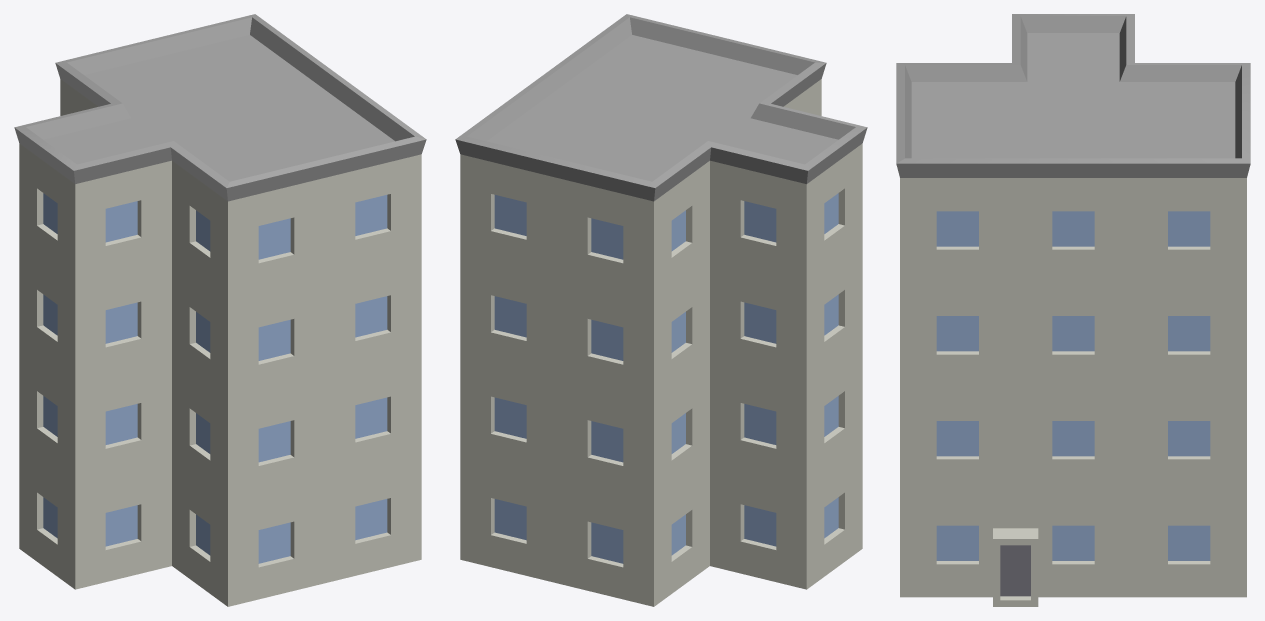
The model's file is Building5.fbx.
3 views of the same model, side by side, from view 1: azimuth 30°, elevation 25°; view 2: azimuth 150°, elevation 25°; view 3: azimuth 270°, elevation 25° (orthographic). The views are drawn at different scales.
Parts seen in each view (by area): view 1: building5:extrudeBackextrudeFront1; view 2: building5:extrudeBackextrudeFront1; view 3: building5:extrudeBackextrudeFront1.
Boxes of the visible parts, x1,y1,x2,y2 form: building5:extrudeBackextrudeFront1: (14, 14, 426, 606); building5:extrudeBackextrudeFront1: (455, 14, 867, 606); building5:extrudeBackextrudeFront1: (896, 14, 1250, 606).
Bounding box in the file's own units: 32.47 × 41.68 × 30.65.
